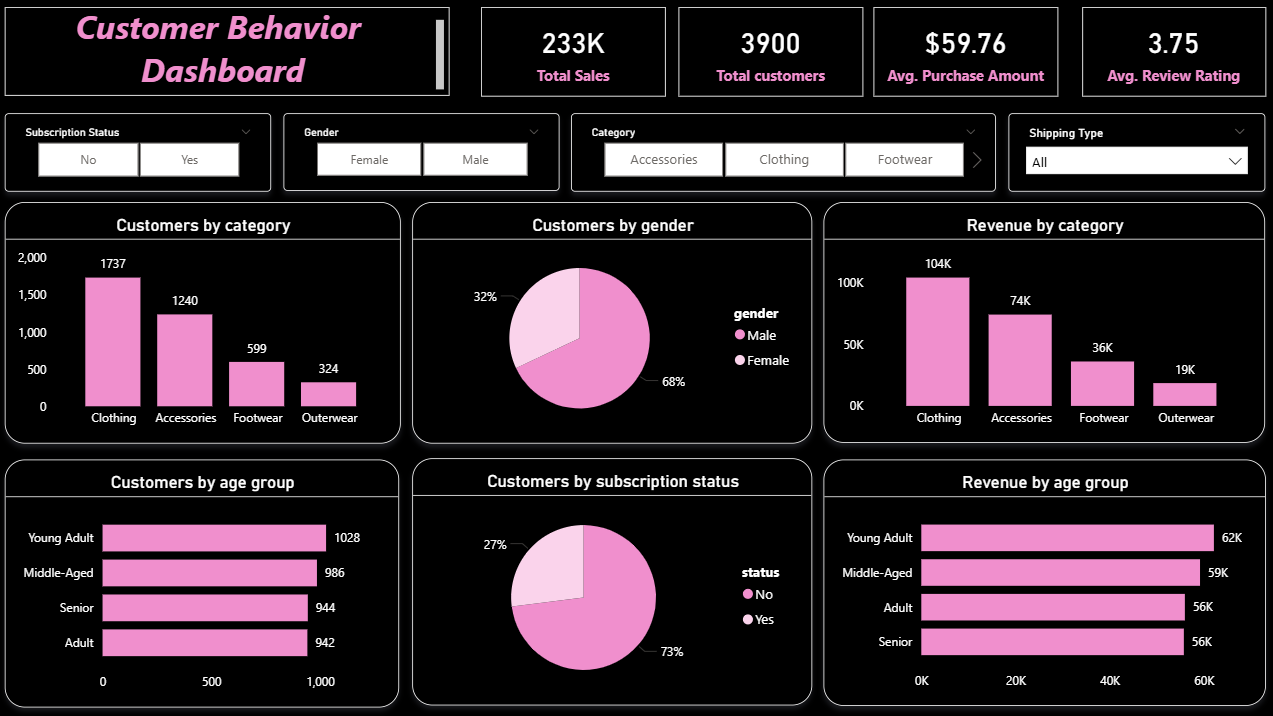

The page's visual inventory and layout, read from the dashboard file:
{"tool":"powerbi","page":{"name":"Pink Dashboard","canvas":[1280,720],"ordinal":3},"visuals":[{"type":"textbox","box":[8.6,10,445.7,88.6],"z":0},{"type":"card","fields":{"Values":["the_measures.Average Review Rating"]},"box":[1086.4,10.2,183.6,89.3],"z":1000},{"type":"card","fields":{"Values":["the_measures.Average Purchase Amount"]},"box":[877.3,10.2,184.9,89.3],"z":2000},{"type":"card","fields":{"Values":["the_measures.Number of customers"]},"box":[682.2,10.2,184.9,89.3],"z":3000},{"type":"barChart","title":"Customers by age group","fields":{"Category":["public customer.age_group"],"Y":["Count(public customer.customer_id)"]},"box":[8.9,462.2,394.4,247.8],"z":4000},{"type":"clusteredColumnChart","title":"Revenue by category","fields":{"Category":["public customer.category"],"Y":["Sum(public customer.purchase_amount)"]},"box":[827.3,205.5,441.8,240.9],"z":5000},{"type":"barChart","title":"Revenue by age group","fields":{"Category":["public customer.age_group"],"Y":["Sum(public customer.purchase_amount)"]},"box":[827.8,462.2,442.2,246.7],"z":6000},{"type":"pieChart","title":"Customers by subscription status","fields":{"Y":["Sum(public customer.customer_id)"],"Category":["public customer.subscription_status"]},"box":[416.4,461.8,400,247.3],"z":7000},{"type":"clusteredColumnChart","title":"Customers by category","fields":{"Category":["public customer.category"],"Y":["Count(public customer.customer_id)"]},"box":[8.4,205.1,395.7,241.3],"z":8000},{"type":"pieChart","title":"Customers by gender","fields":{"Category":["public customer.gender"],"Y":["Count(public customer.customer_id)"]},"box":[416.2,205,400,241.2],"z":9000},{"type":"slicer","fields":{"Values":["public customer.subscription_status"]},"box":[8.6,115.7,267.1,78.6],"z":10000},{"type":"slicer","fields":{"Values":["public customer.gender"]},"box":[287.9,116.4,275.7,77.9],"z":11000},{"type":"slicer","fields":{"Values":["public customer.category"]},"box":[575,115.7,425,78.6],"z":12000},{"type":"slicer","fields":{"Values":["public customer.shipping_type"]},"box":[1012.9,115.7,257.1,78.6],"z":13000},{"type":"card","fields":{"Values":["the_measures.Total Sales"]},"box":[484.6,10.2,184.9,89.3],"z":14000}]}

Visuals, with their boxes in screenshot pixels (x1, y1, x2, y2), scaled from the page's 1280x720 canvas onto the 1273x716 screenshot:
textbox: [9,10,452,98]
card - the_measures.Average Review Rating: [1080,10,1263,99]
card - the_measures.Average Purchase Amount: [873,10,1056,99]
card - the_measures.Number of customers: [678,10,862,99]
"Customers by age group" barChart: [9,460,401,706]
"Revenue by category" clusteredColumnChart: [823,204,1262,444]
"Revenue by age group" barChart: [823,460,1263,705]
"Customers by subscription status" pieChart: [414,459,812,705]
"Customers by category" clusteredColumnChart: [8,204,402,444]
"Customers by gender" pieChart: [414,204,812,444]
slicer - public customer.subscription_status: [9,115,274,193]
slicer - public customer.gender: [286,116,561,193]
slicer - public customer.category: [572,115,995,193]
slicer - public customer.shipping_type: [1007,115,1263,193]
card - the_measures.Total Sales: [482,10,666,99]
